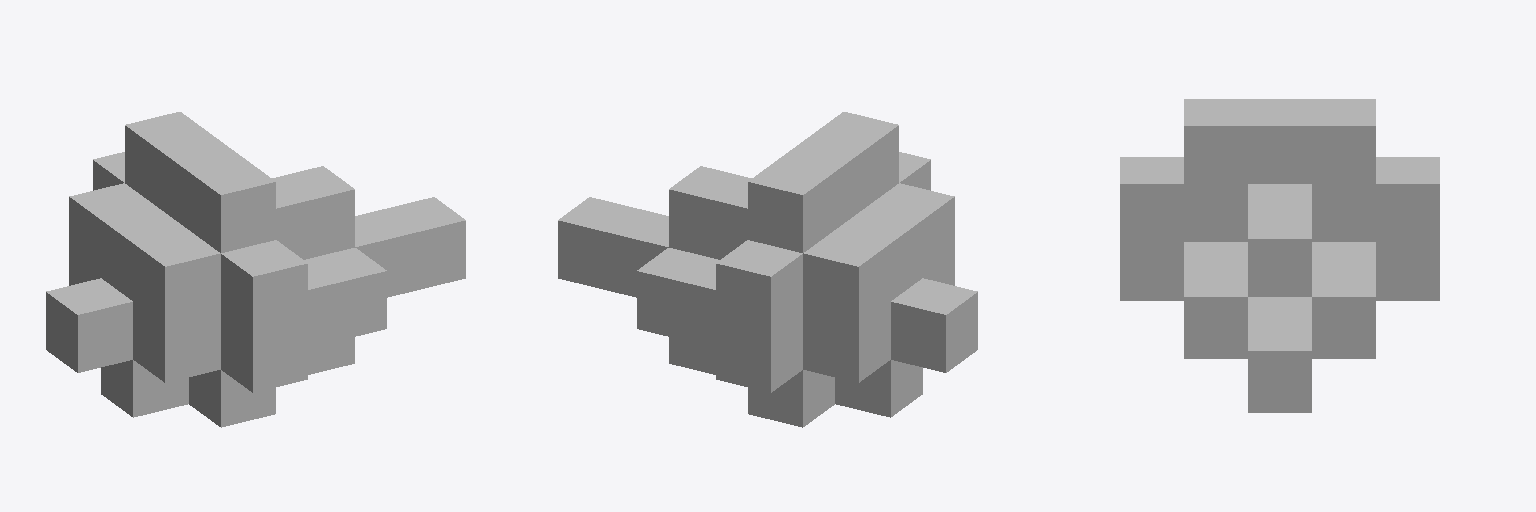
The model's file is fire.obj.
The picture shows the model from 3 angles: view 1: azimuth 30°, elevation 25°; view 2: azimuth 150°, elevation 25°; view 3: azimuth 270°, elevation 25°; orthographic projection.
Size of the model in its own units: 7 by 4 by 5.